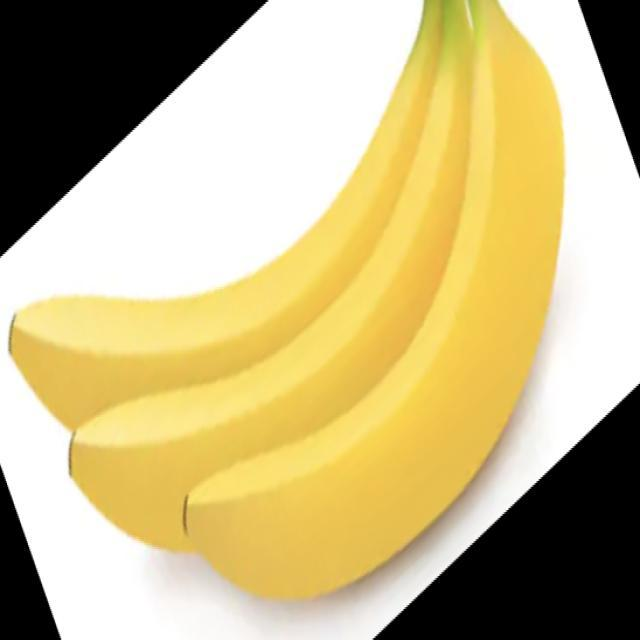Banana: (7, 0, 566, 602)
